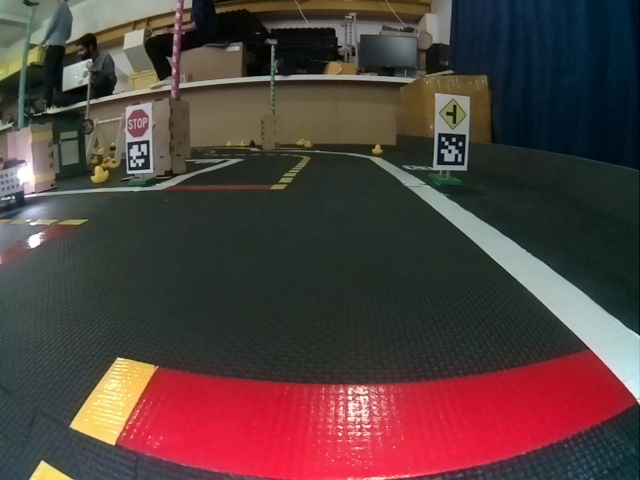Duckie: (91, 167, 108, 182), (373, 144, 381, 154), (304, 140, 313, 147)
Duckiebot: (1, 157, 28, 207)
Intersection sign: (440, 101, 468, 131)
QR code: (436, 134, 467, 165), (127, 140, 150, 171)
Stop sign: (127, 111, 148, 138)
